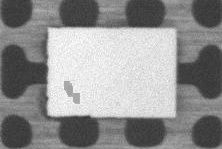DIE_INK: (61, 79, 81, 105)
